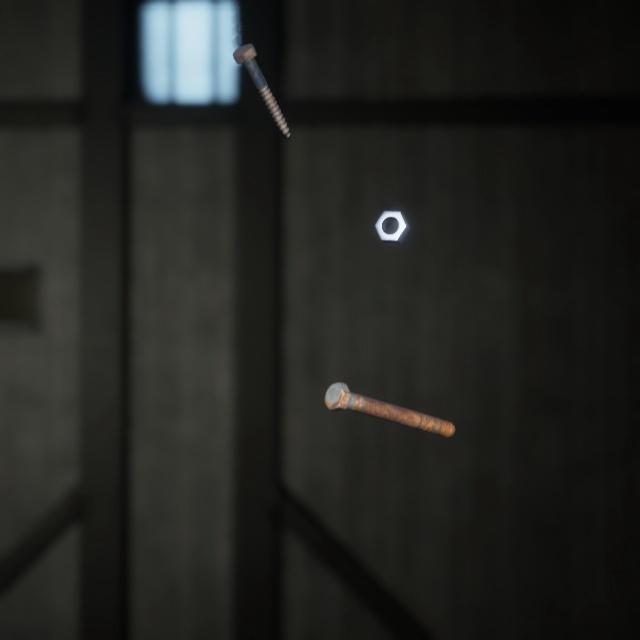bolt: (320, 358, 459, 423), (228, 27, 295, 130)
nut: (370, 191, 415, 232)
